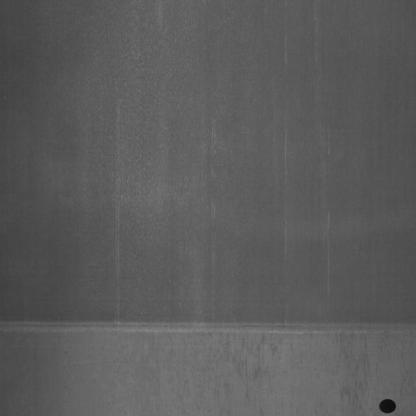punching_hole: (377, 394, 400, 416)
welding_line: (1, 310, 414, 344)
